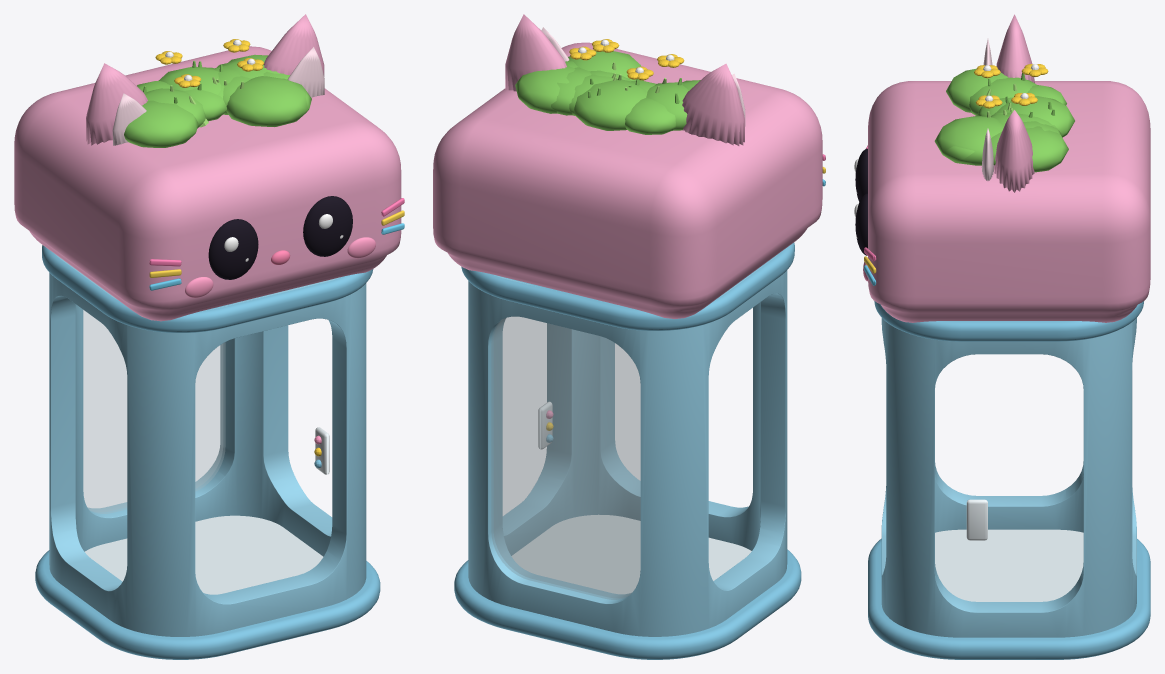
File: catavator.glb
3 renders of one model, left to right at view 1: azimuth 30°, elevation 25°; view 2: azimuth 150°, elevation 25°; view 3: azimuth 270°, elevation 25°, orthographic. The views are drawn at different scales.
Parts seen in each view (by area): view 1: than, dau-meo, kinh, de, san, go-tren, bui-co.007, bui-co.013, tai, mat, mat.001, tai.001 (+5 smaller); view 2: than, dau-meo, kinh, de, san, go-tren, tai, bui-co.005, tai.001, bui-co.015, bui-co.002, bui-co.007 (+2 smaller); view 3: dau-meo, than, san, de, go-tren, tai.001, bui-co.007, tai, bui-co.015, bui-co.005, bui-co.013, bui-co.014 (+4 smaller).
Boxes of the visible parts, left/top/right/bottom form: than: left=49, top=254, right=366, bottom=636; dau-meo: left=14, top=46, right=401, bottom=321; kinh: left=83, top=310, right=225, bottom=513; de: left=35, top=550, right=380, bottom=659; san: left=85, top=515, right=323, bottom=594; go-tren: left=42, top=245, right=373, bottom=332; bui-co.007: left=226, top=76, right=308, bottom=126; bui-co.013: left=124, top=100, right=198, bottom=147; tai: left=86, top=63, right=147, bottom=145; mat: left=208, top=219, right=258, bottom=279; mat.001: left=303, top=196, right=352, bottom=256; tai.001: left=263, top=14, right=324, bottom=76; than: left=468, top=252, right=787, bottom=636; dau-meo: left=433, top=42, right=822, bottom=319; kinh: left=491, top=316, right=640, bottom=599; de: left=454, top=549, right=801, bottom=659; san: left=511, top=514, right=751, bottom=594; go-tren: left=461, top=242, right=794, bottom=330; tai: left=682, top=63, right=744, bottom=145; bui-co.005: left=573, top=79, right=646, bottom=130; tai.001: left=505, top=14, right=566, bottom=91; bui-co.015: left=515, top=64, right=575, bottom=113; bui-co.002: left=625, top=97, right=676, bottom=134; bui-co.007: left=568, top=51, right=643, bottom=81; dau-meo: left=868, top=81, right=1150, bottom=322; than: left=881, top=318, right=1136, bottom=637; san: left=935, top=529, right=1083, bottom=601; de: left=868, top=538, right=1150, bottom=659; go-tren: left=874, top=301, right=1143, bottom=341; tai.001: left=994, top=110, right=1034, bottom=192; bui-co.007: left=934, top=115, right=1003, bottom=165; tai: left=996, top=14, right=1034, bottom=83; bui-co.015: left=1026, top=126, right=1068, bottom=172; bui-co.005: left=996, top=96, right=1074, bottom=137; bui-co.013: left=946, top=68, right=1007, bottom=112; bui-co.014: left=969, top=77, right=1036, bottom=115.
Size of the model in its own units: 2.9 by 5.57 by 2.79.
